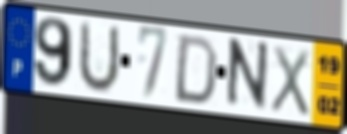7: (135, 24, 170, 105)
9: (33, 15, 78, 92)
D: (172, 32, 221, 107)
N: (223, 35, 271, 114)
U: (75, 18, 121, 96)
X: (268, 42, 311, 119)
